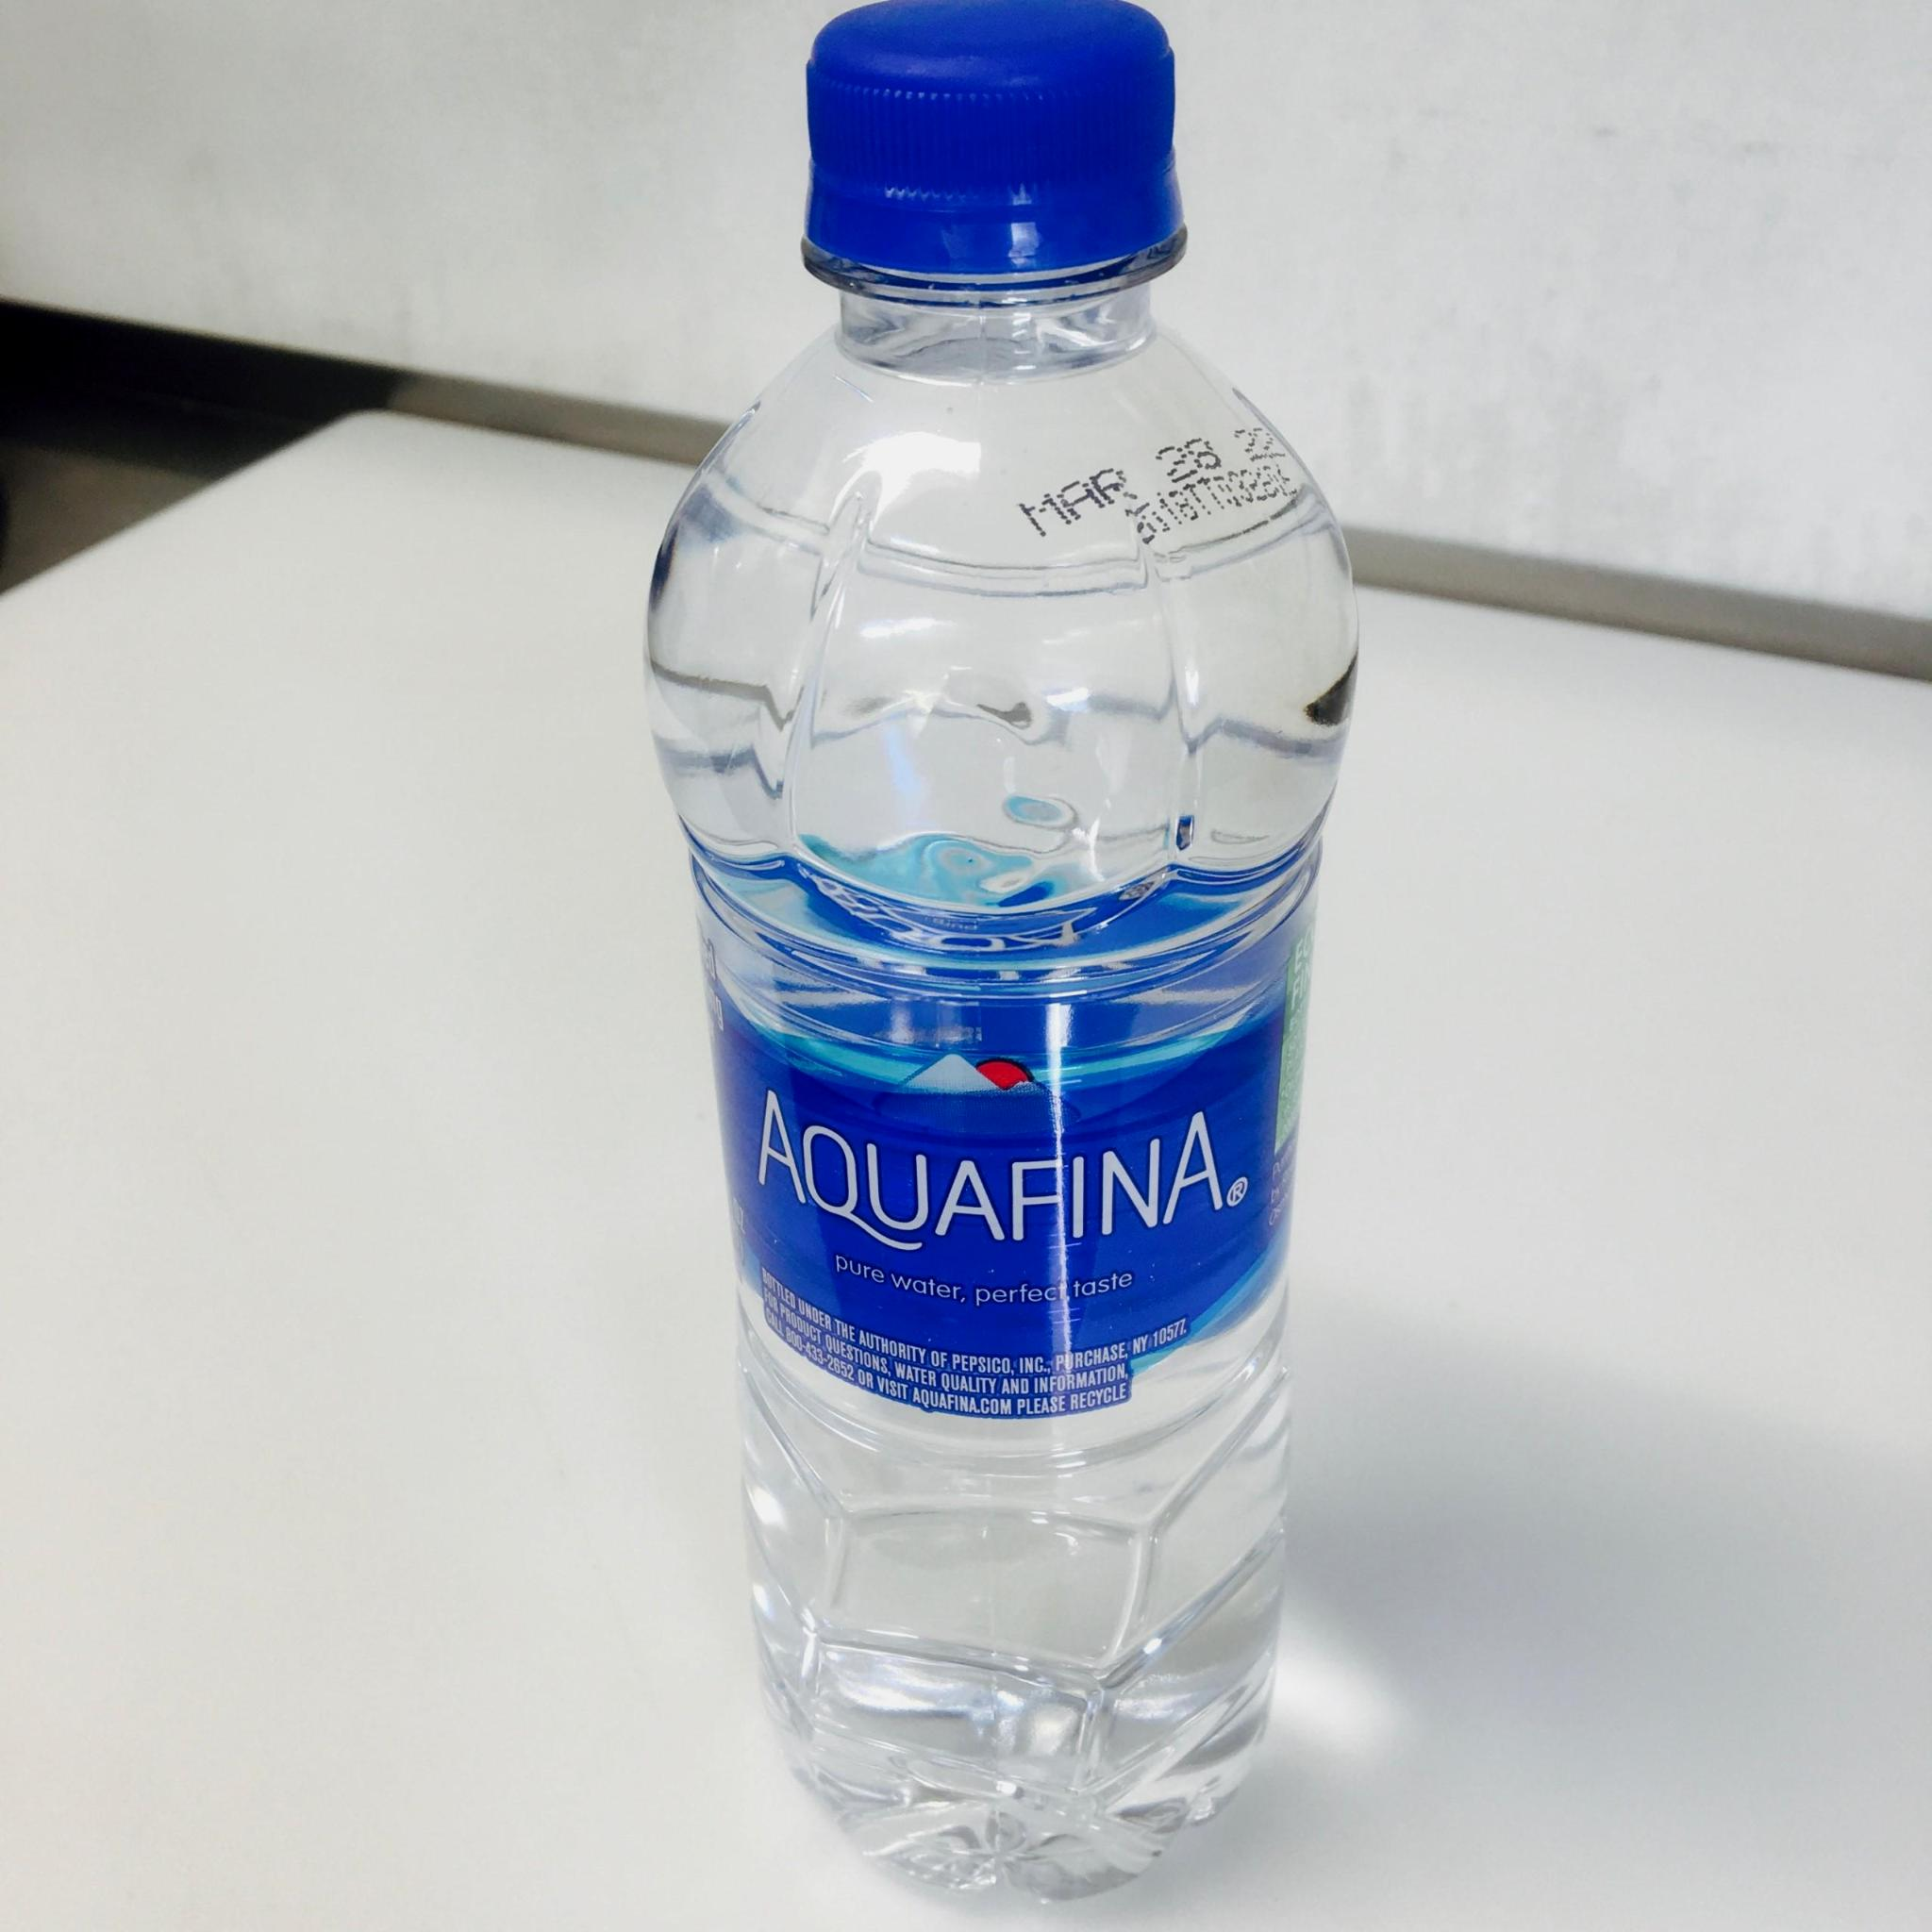bottle: (614, 25, 1378, 1932)
